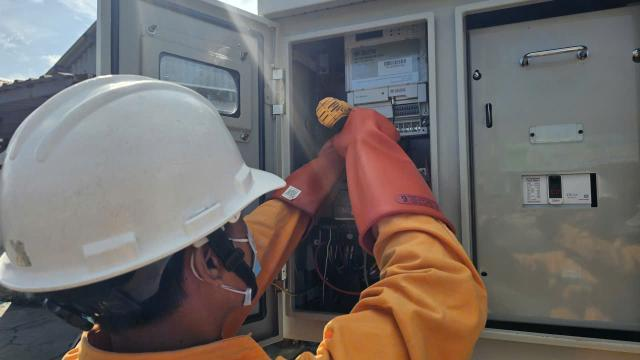gloves: (328, 96, 474, 264), (272, 121, 350, 244)
helmet: (0, 68, 288, 340)
